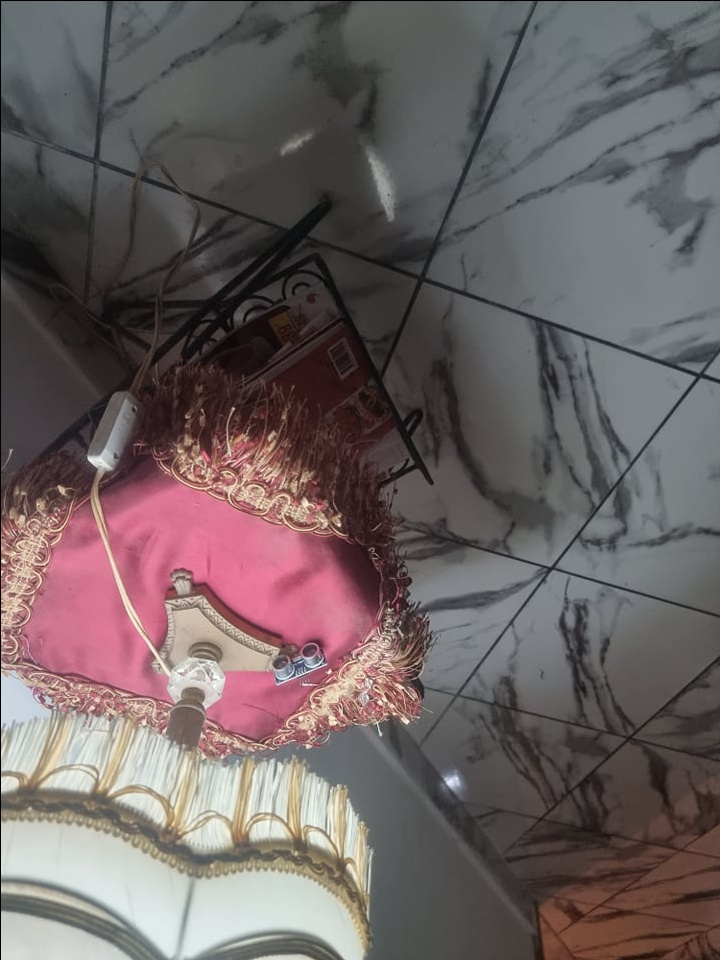SENSOR: (268, 642, 323, 683)
